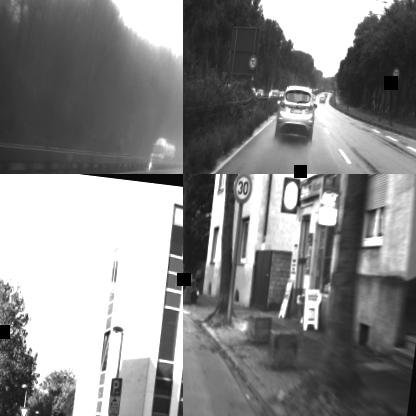give way: (17, 405, 28, 416)
speed limit 30: (231, 174, 254, 204)
speed limit 70: (390, 65, 400, 80), (248, 54, 258, 68)
